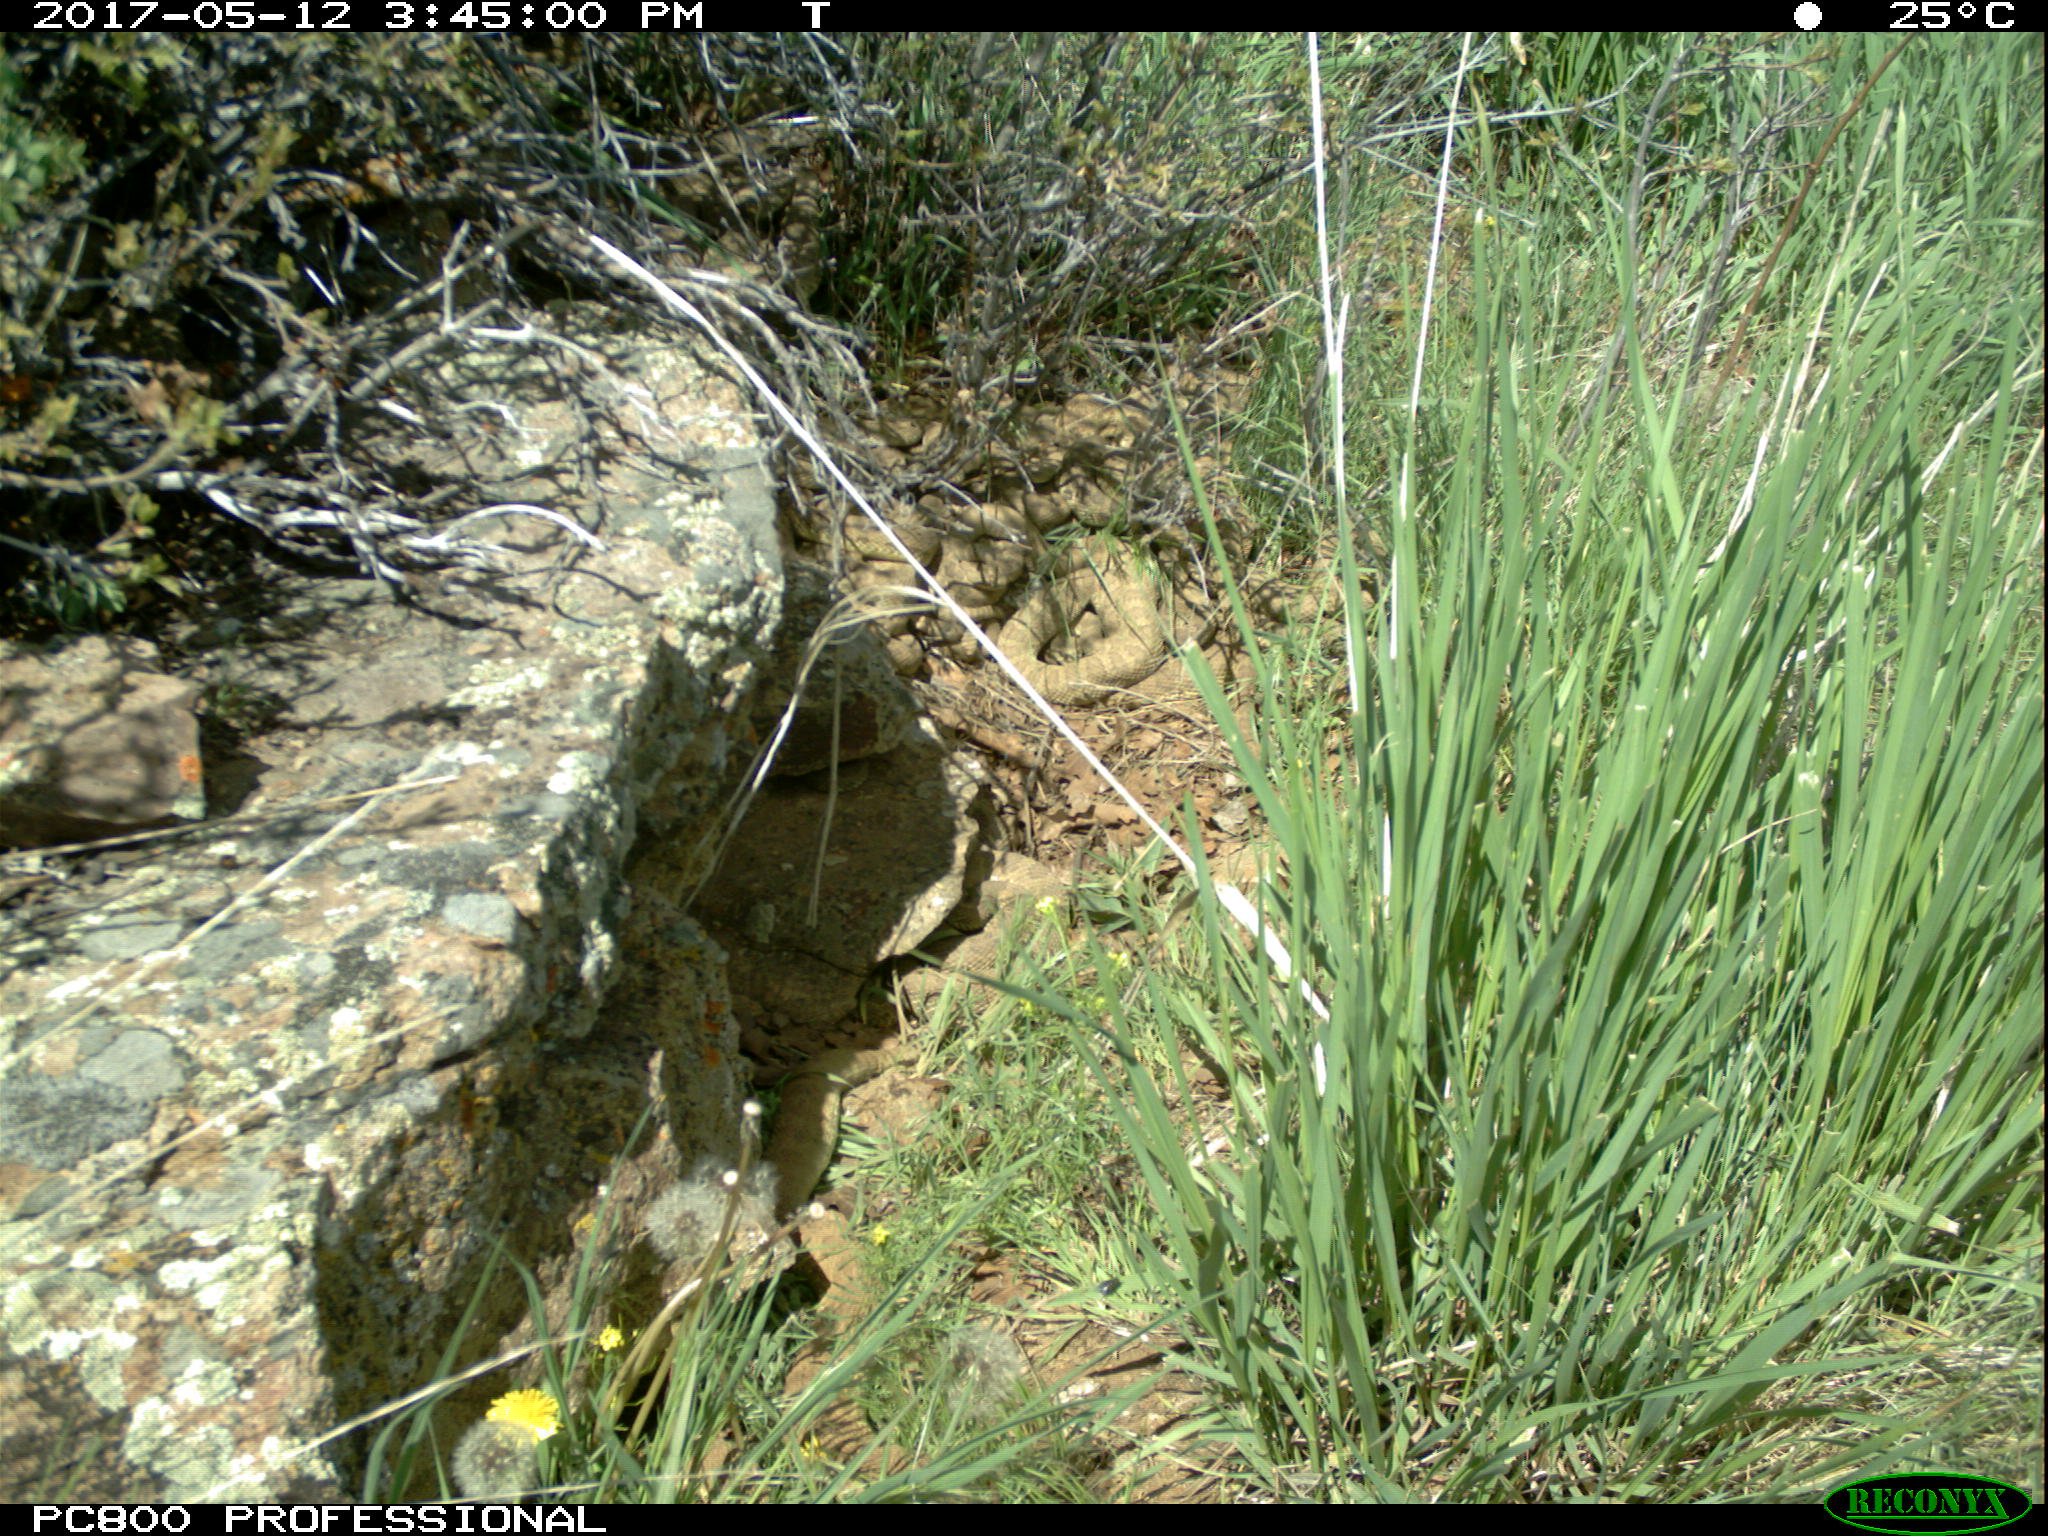snake: (777, 1202, 901, 1483), (764, 1044, 914, 1207), (997, 563, 1169, 703), (822, 500, 942, 668), (948, 844, 1076, 992), (1013, 389, 1137, 531), (930, 495, 1039, 624), (1268, 566, 1382, 657)
